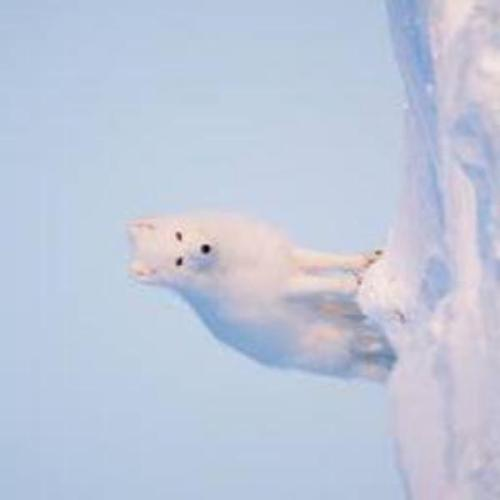arctic_fox-endangered: (118, 212, 396, 384)
